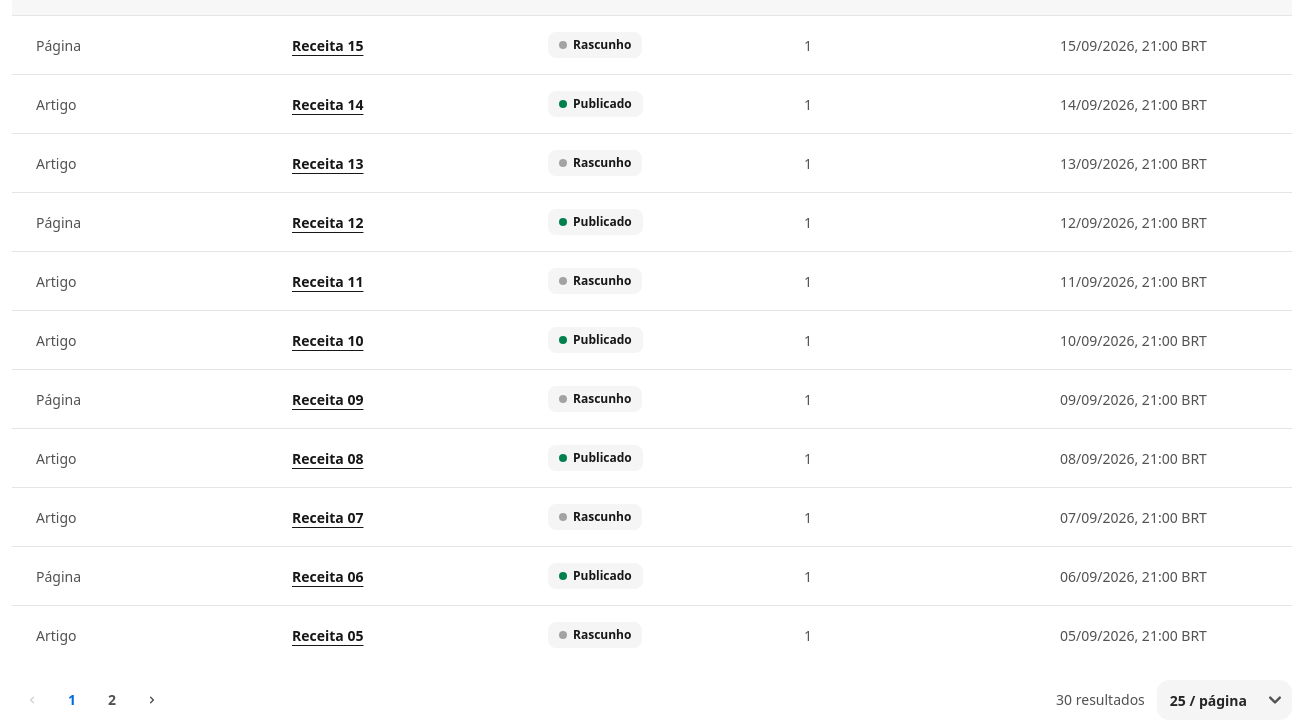
busca, filtros, ordem e paginação (#107) › 25 por página, com contagem e Página anterior/Próxima página
This screenshot has width=1292, height=720.
(page scrolled)
Expected: the message reads "30 resultados", [1056,690,1145,709]
Click the button named "Próxima página" at (152, 700), box [136,684,168,716]
(page scrolled)
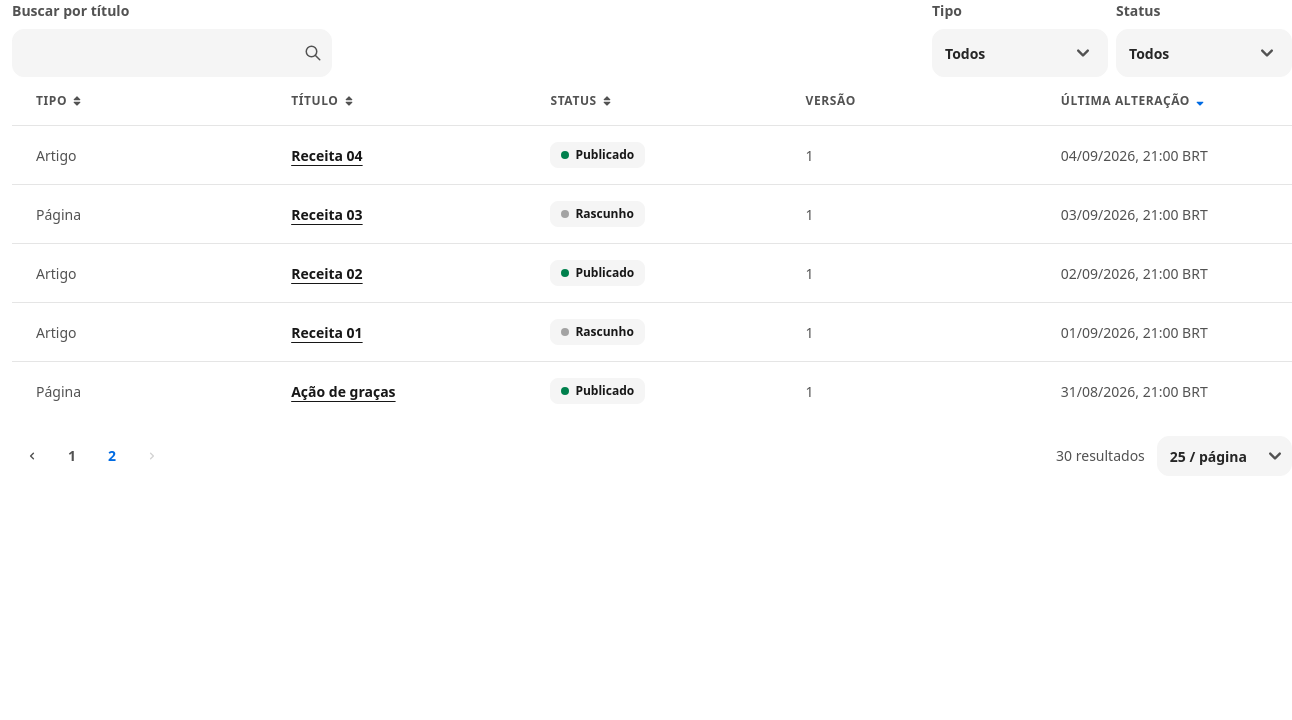
Result: the number of rows is 6 at [12,77,1291,126]; [12,126,1291,184]; [12,184,1291,244]; [12,244,1291,302]; [12,302,1291,362]; [12,362,1291,420]
